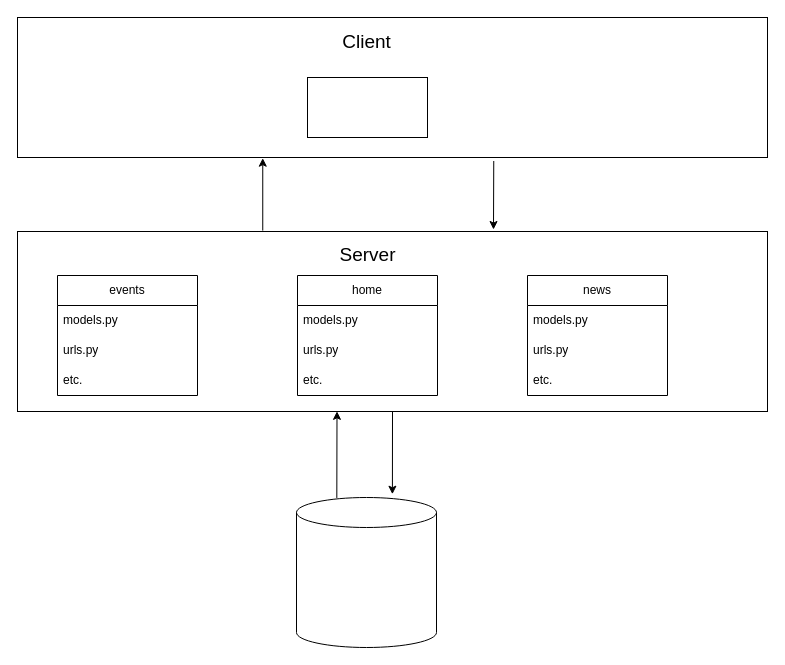
This 785x665 diagram has some shape labels left out. The box of each missing label's shape, as (x1, y1, x2, y2) in pixels:
PostgreSQL Database: (296, 496, 436, 648)
WebUI: (306, 76, 428, 138)
